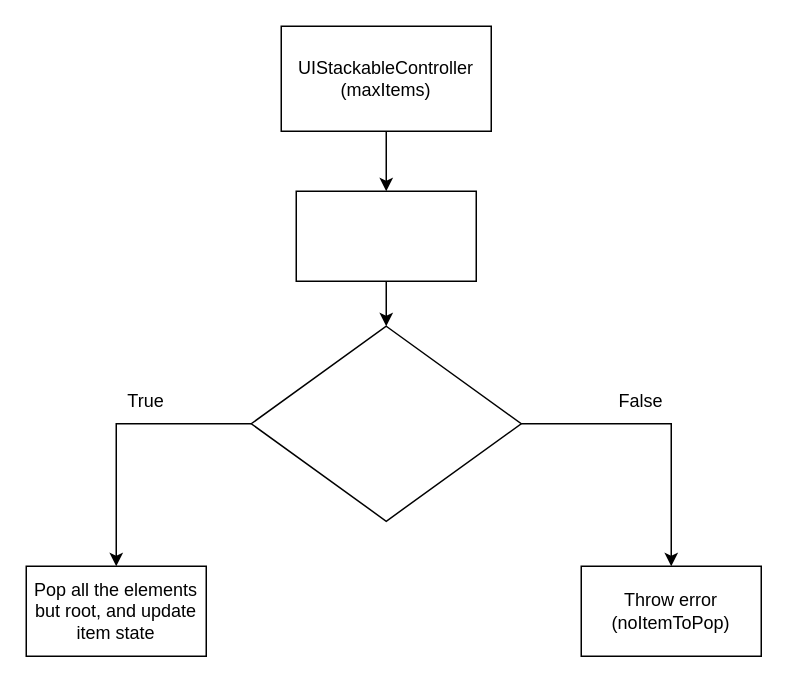
Image size: 788x683. Some labels were removed from this diagram. Here are the shapes that lost their labels. From the top down, the box of each, then its label:
(295, 190, 476, 281): popToRoot()
(250, 325, 521, 521): canPop (count <= 1)
